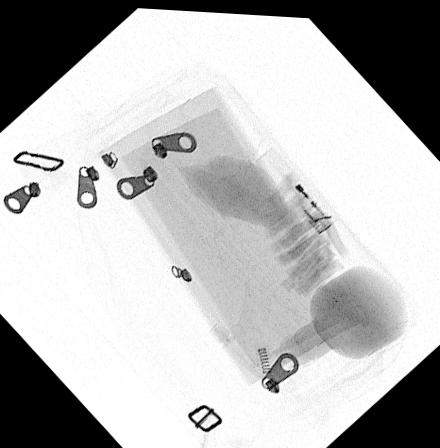Lighter: (254, 142, 337, 228)
